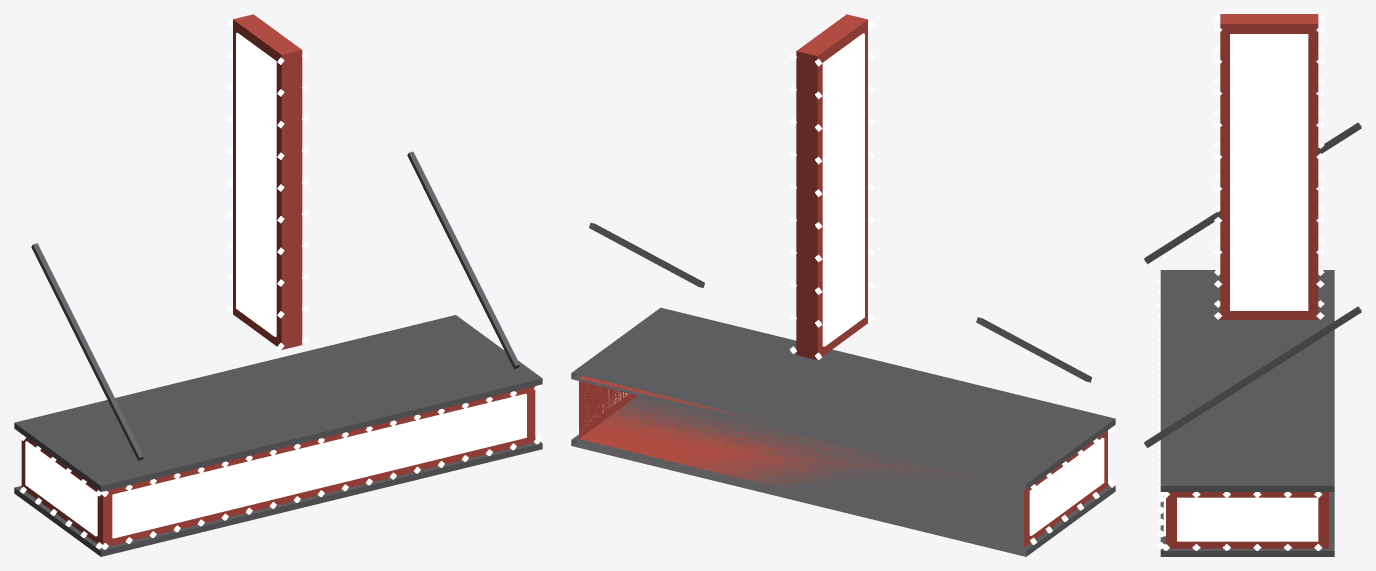
The model's file is TheaterMarquee.glb.
The picture shows the model from 3 angles, left to right: view 1: azimuth 30°, elevation 25°; view 2: azimuth 150°, elevation 25°; view 3: azimuth 270°, elevation 25°; orthographic projection. The views are drawn at different scales.
Visible parts, largest first — view 1: TheaterMarquee_cube.015, TheaterMarquee_cube.012, TheaterMarquee_cube.021, TheaterMarquee_cube.019, TheaterMarquee_cube.011, TheaterMarquee_cube.016, TheaterMarquee_cube.013, TheaterMarquee_cube.018, TheaterMarquee_cube.017; view 2: TheaterMarquee_cube.015, TheaterMarquee_cube.016, TheaterMarquee_cube.011, TheaterMarquee_cube.021, TheaterMarquee_cube.019, TheaterMarquee_cube.013, TheaterMarquee_cube.017, TheaterMarquee_cube.018; view 3: TheaterMarquee_cube.015, TheaterMarquee_cube.020, TheaterMarquee_cube.019, TheaterMarquee_cube.014, TheaterMarquee_cube.011, TheaterMarquee_cube.016, TheaterMarquee_cube.018, TheaterMarquee_cube.017.
Boxes of the visible parts, x1,y1,x2,y2 form: TheaterMarquee_cube.015: [14, 315, 542, 491]; TheaterMarquee_cube.012: [112, 393, 526, 538]; TheaterMarquee_cube.021: [236, 32, 276, 336]; TheaterMarquee_cube.019: [233, 14, 302, 349]; TheaterMarquee_cube.011: [21, 386, 535, 546]; TheaterMarquee_cube.016: [14, 438, 542, 556]; TheaterMarquee_cube.013: [25, 441, 97, 536]; TheaterMarquee_cube.018: [407, 151, 519, 368]; TheaterMarquee_cube.017: [31, 243, 143, 460]; TheaterMarquee_cube.015: [571, 307, 1115, 489]; TheaterMarquee_cube.016: [571, 395, 1115, 556]; TheaterMarquee_cube.011: [579, 376, 1107, 547]; TheaterMarquee_cube.021: [822, 33, 864, 346]; TheaterMarquee_cube.019: [796, 14, 867, 359]; TheaterMarquee_cube.013: [1029, 438, 1104, 535]; TheaterMarquee_cube.017: [976, 317, 1092, 382]; TheaterMarquee_cube.018: [589, 222, 704, 287]; TheaterMarquee_cube.015: [1160, 270, 1334, 491]; TheaterMarquee_cube.020: [1230, 34, 1308, 310]; TheaterMarquee_cube.019: [1220, 14, 1318, 319]; TheaterMarquee_cube.014: [1177, 497, 1318, 541]; TheaterMarquee_cube.011: [1166, 492, 1328, 548]; TheaterMarquee_cube.016: [1160, 492, 1334, 556]; TheaterMarquee_cube.018: [1144, 306, 1361, 447]; TheaterMarquee_cube.017: [1144, 122, 1361, 264].
Size of the model in its own units: 4.76 by 4.36 by 1.99.
